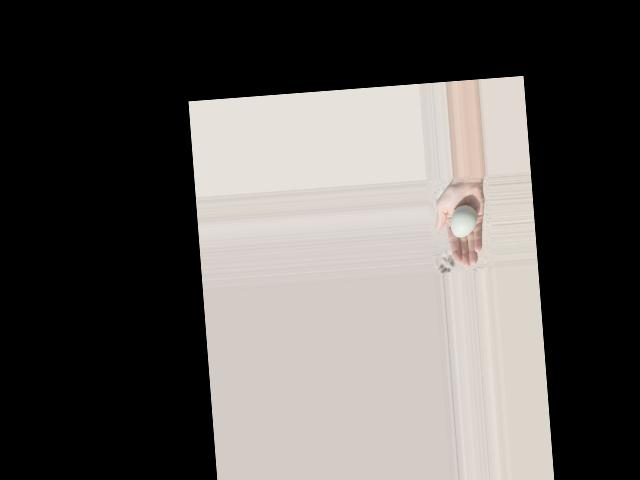egg: (449, 205, 478, 238)
